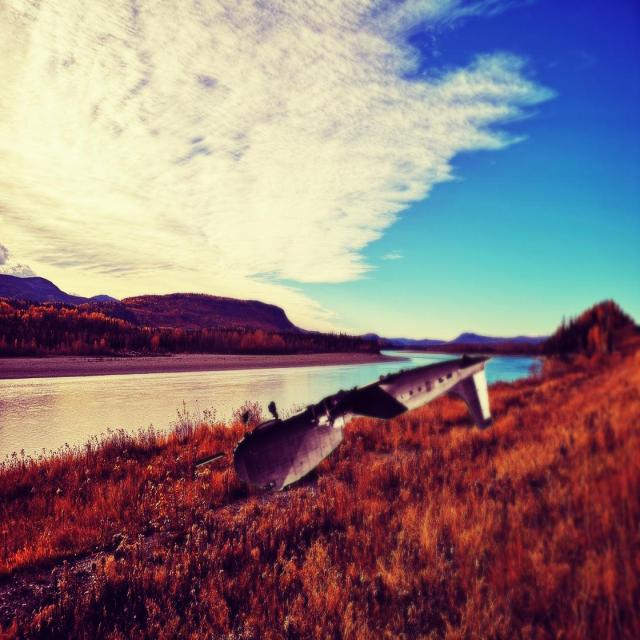airplane: (232, 351, 493, 492)
